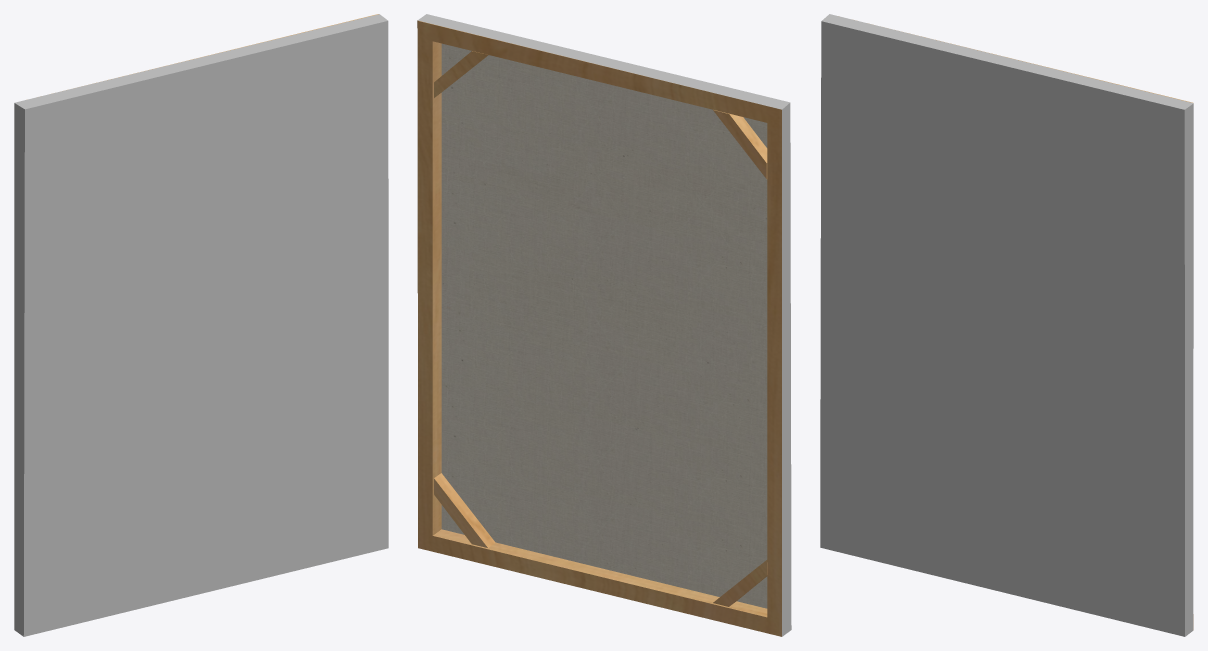
Rendered from Portrait.fbx.
3 views of the same model, side by side, from view 1: azimuth 30°, elevation 25°; view 2: azimuth 150°, elevation 25°; view 3: azimuth 330°, elevation 25° (orthographic).
Parts seen in each view (by area): view 1: picture 1; view 2: picture 1; view 3: picture 1.
Boxes of the visible parts, x1=… form: picture 1: x1=14, y1=14, x2=388, y2=636; picture 1: x1=417, y1=14, x2=791, y2=636; picture 1: x1=820, y1=14, x2=1193, y2=636.
Bounding box in the file's own units: 94.92 × 131 × 4.28.
